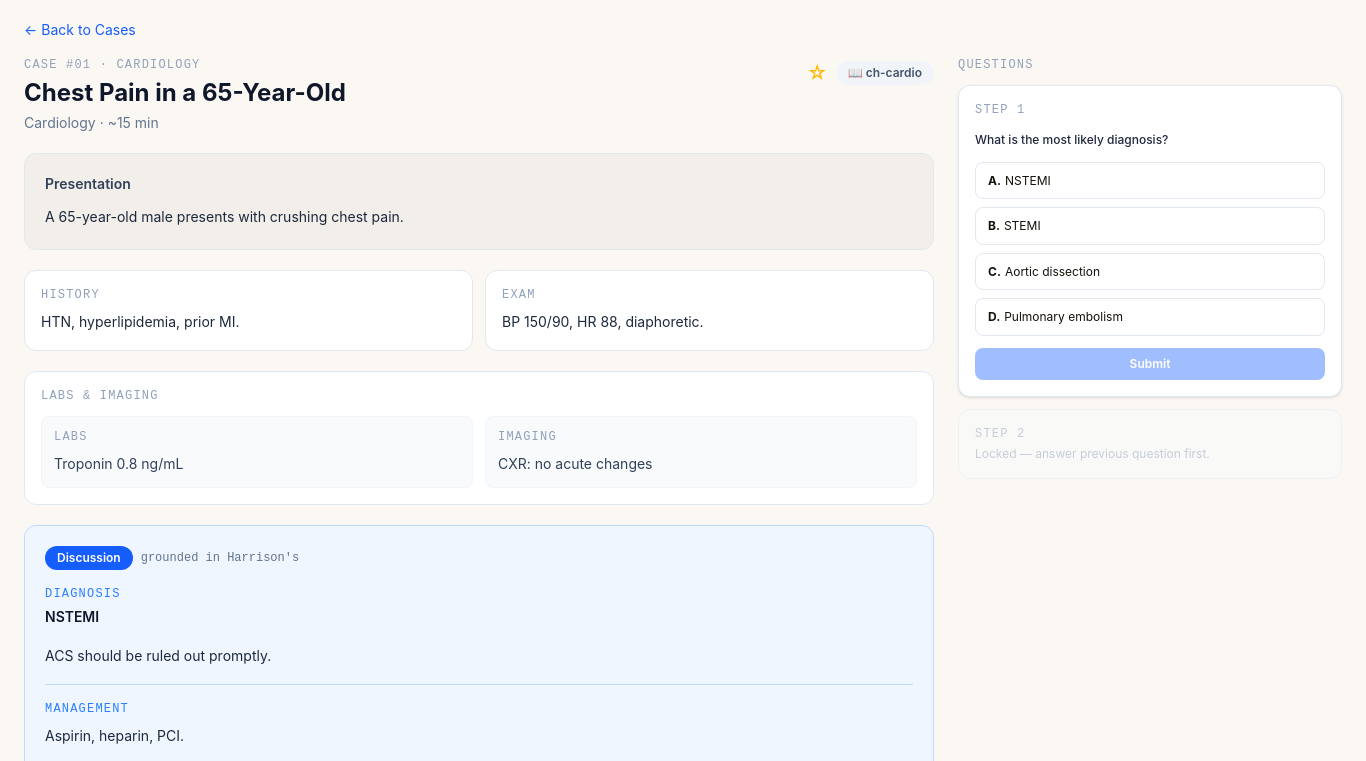
it: CaseDetailPage › second question unlocks after answering the first
Expected: the text "Locked — answer previous question first." is shown, [975,446,1210,460]
Click the button "A.NSTEMI".
click(1028, 180)  # box [975,162,1325,199]
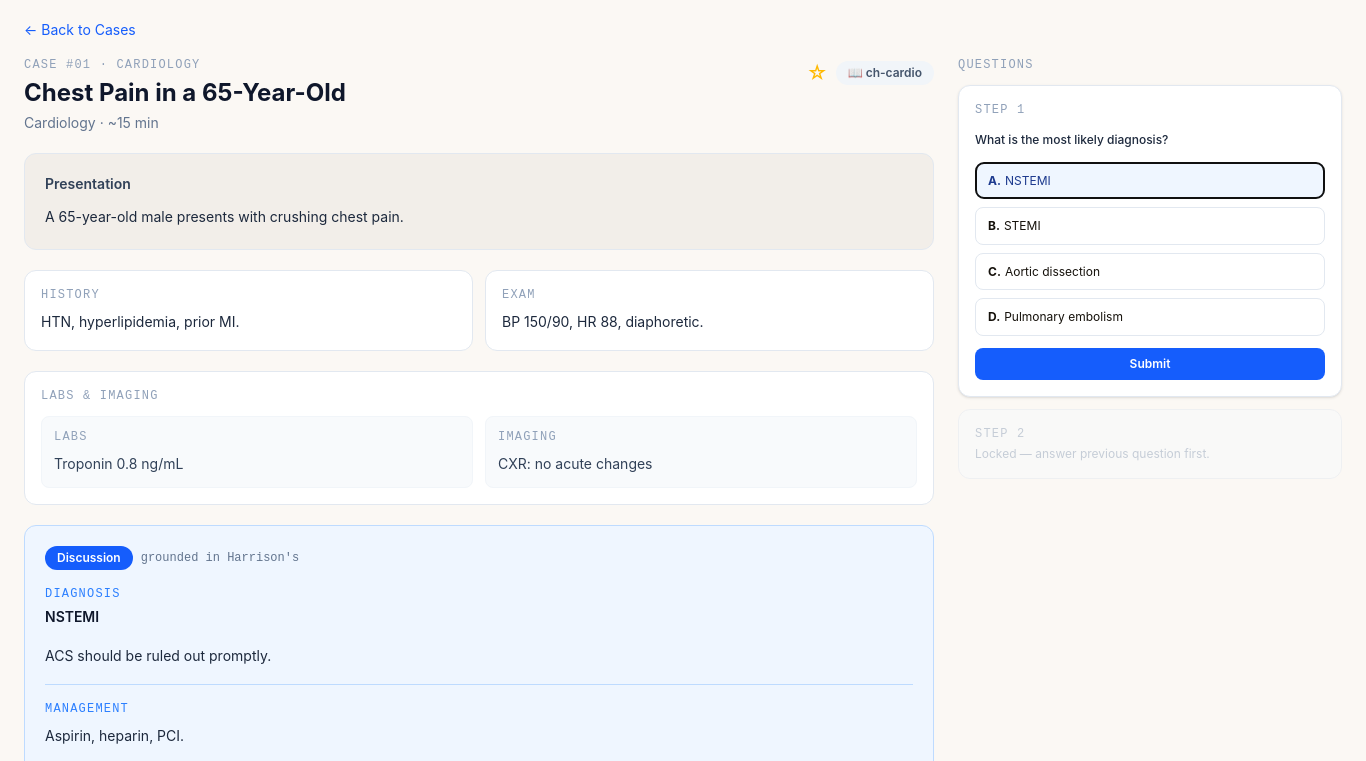
Click the button "Submit".
click(1150, 364)  # box [975,348,1325,380]
(page scrolled)
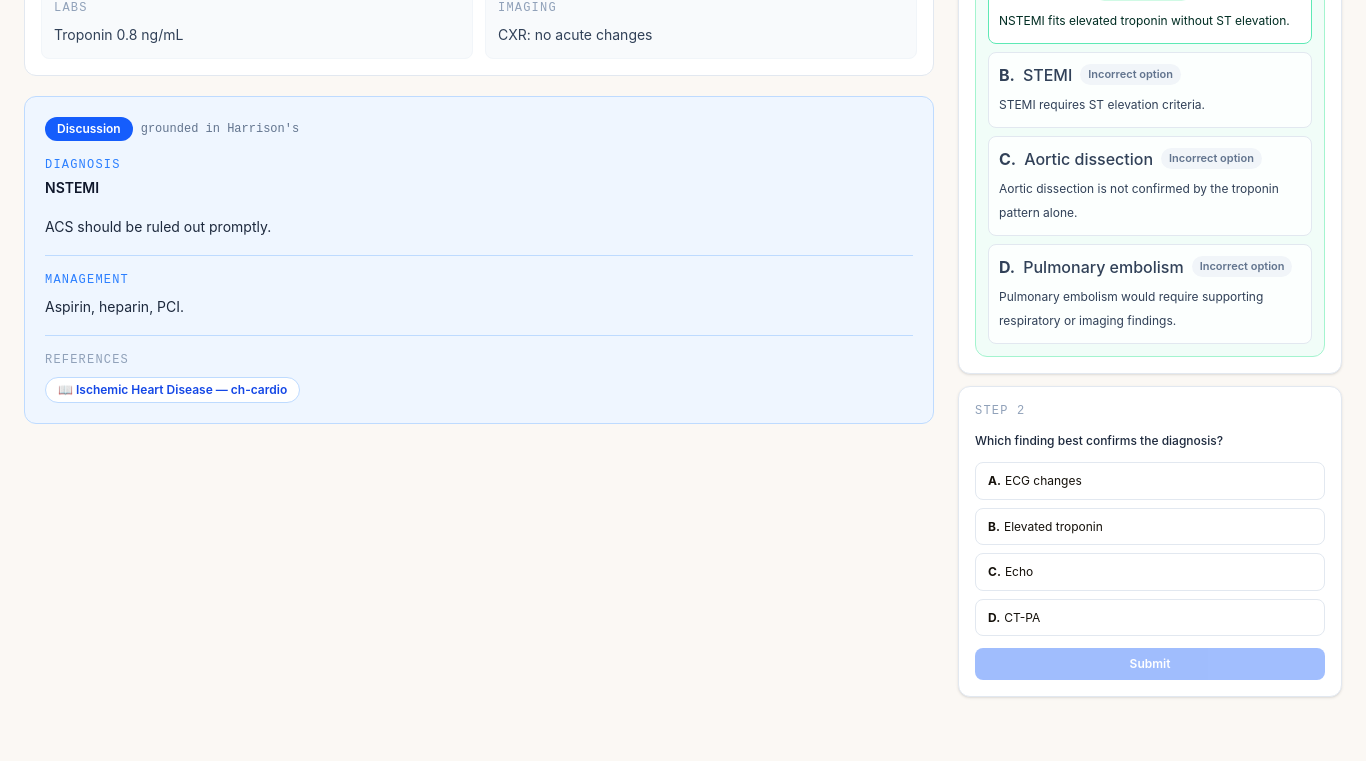
Expected: the text "Locked — answer previous question first." is gone
Expected: the button "B.Elevated troponin" is shown, [975,508,1325,545]
